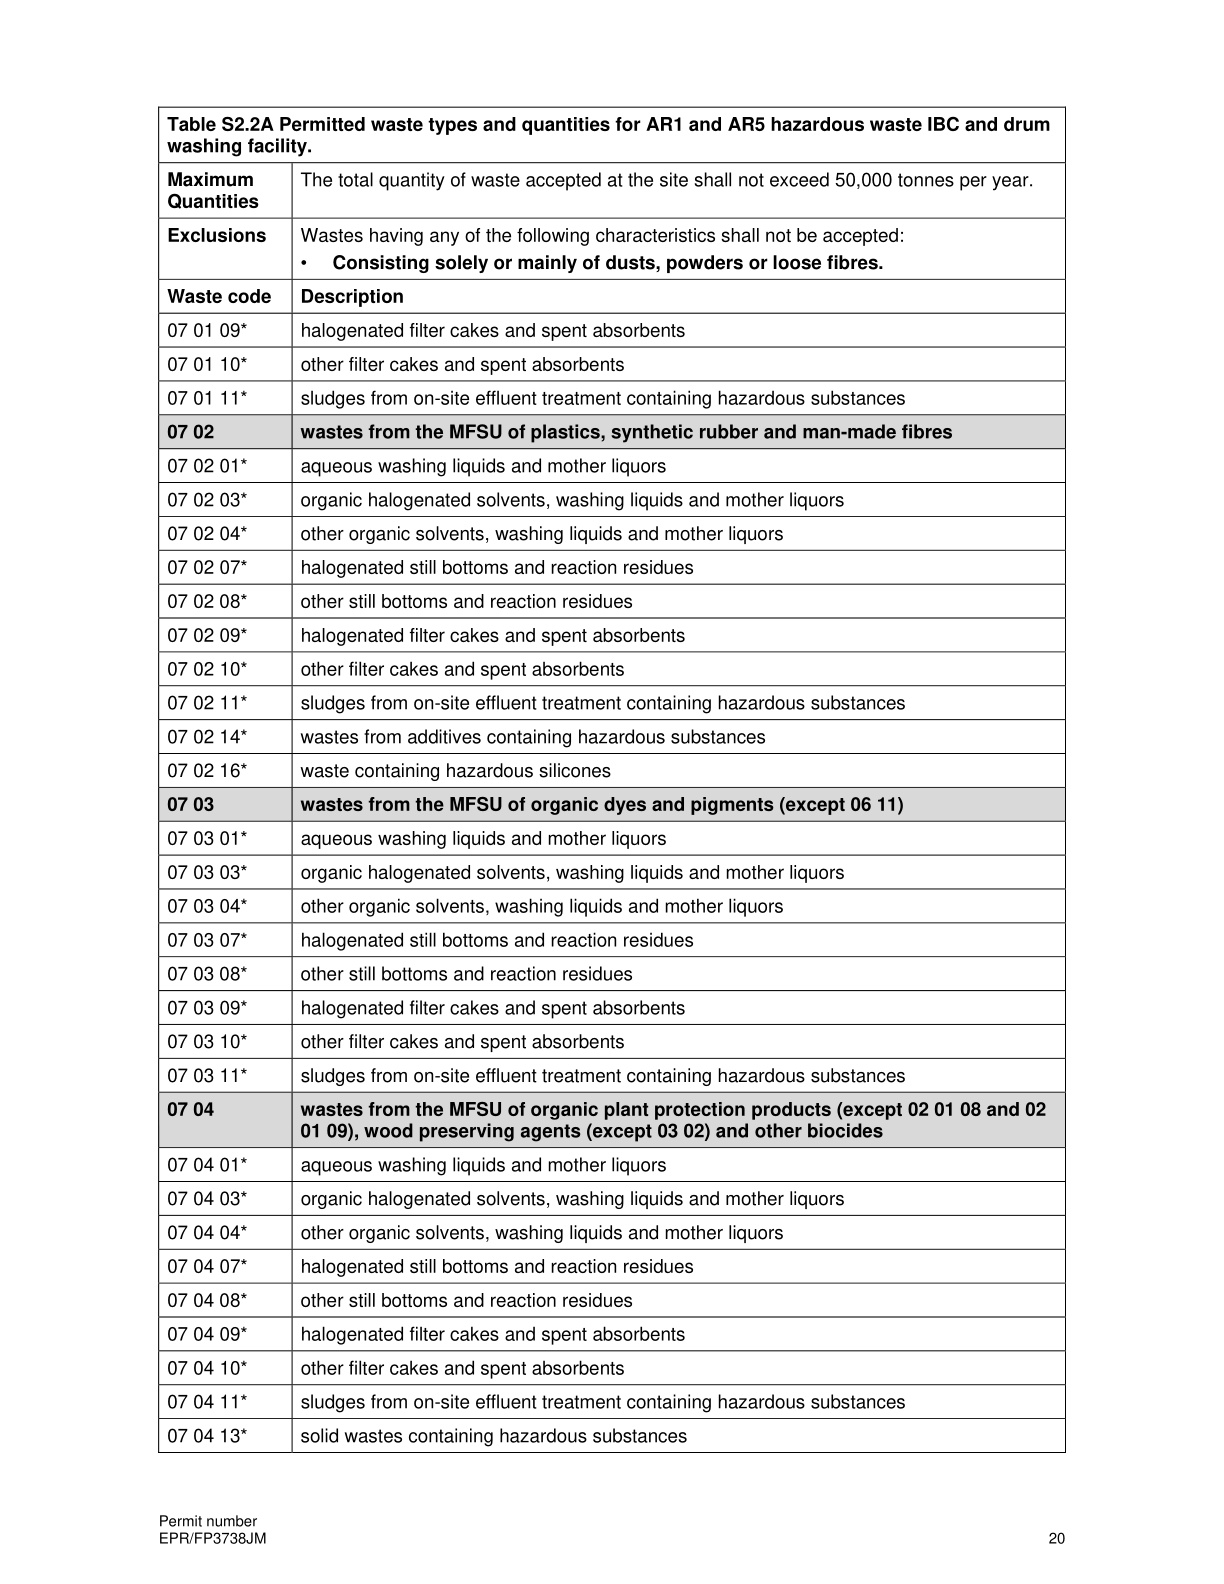merged_cells: (156, 105, 1067, 1454)
